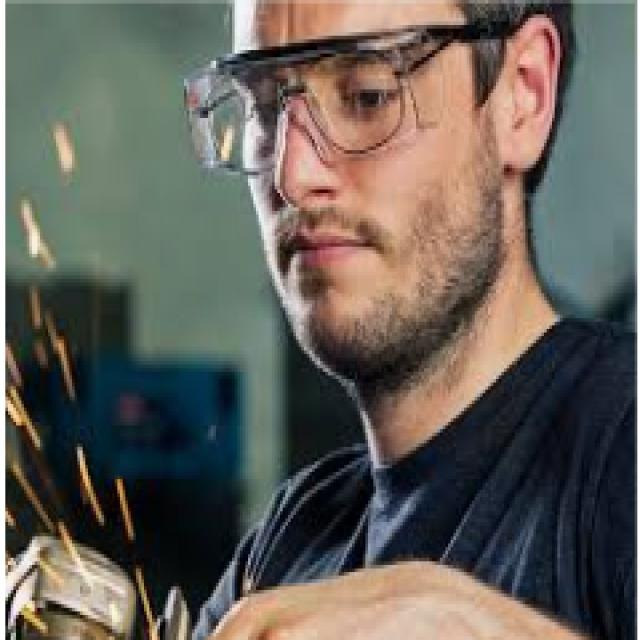glasses: (182, 30, 478, 167)
